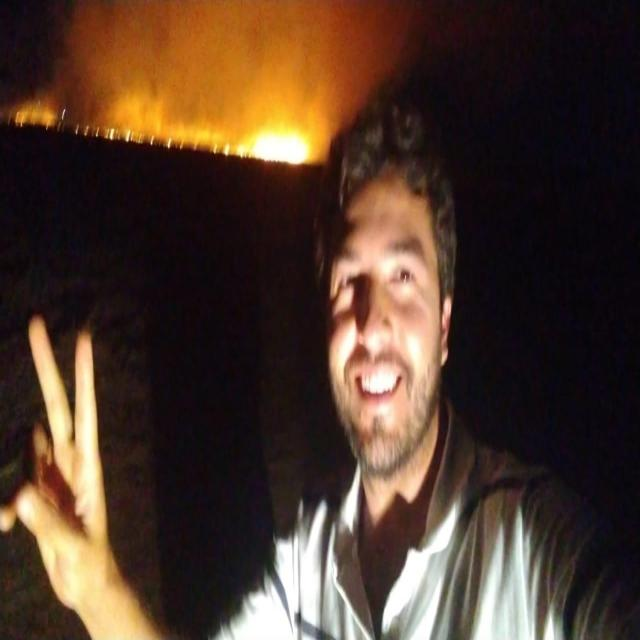Fire: (212, 122, 310, 167)
